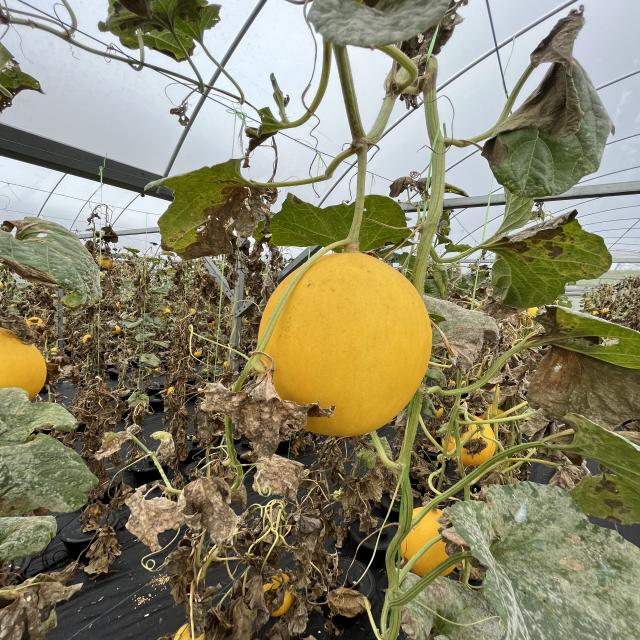CMV: (455, 499, 640, 640), (0, 386, 99, 512), (403, 575, 563, 640), (0, 512, 62, 562)
bacterial wilt: (484, 3, 624, 198), (145, 145, 267, 257), (494, 202, 638, 290), (546, 302, 640, 420), (0, 214, 107, 310), (102, 0, 199, 60), (201, 382, 312, 427), (426, 299, 500, 356), (183, 479, 243, 545), (254, 440, 315, 490), (118, 492, 174, 544), (322, 582, 382, 616), (84, 522, 120, 573), (336, 484, 382, 518), (234, 572, 268, 614), (294, 530, 325, 565)
